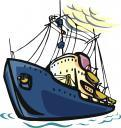boat: (2, 10, 115, 120)
